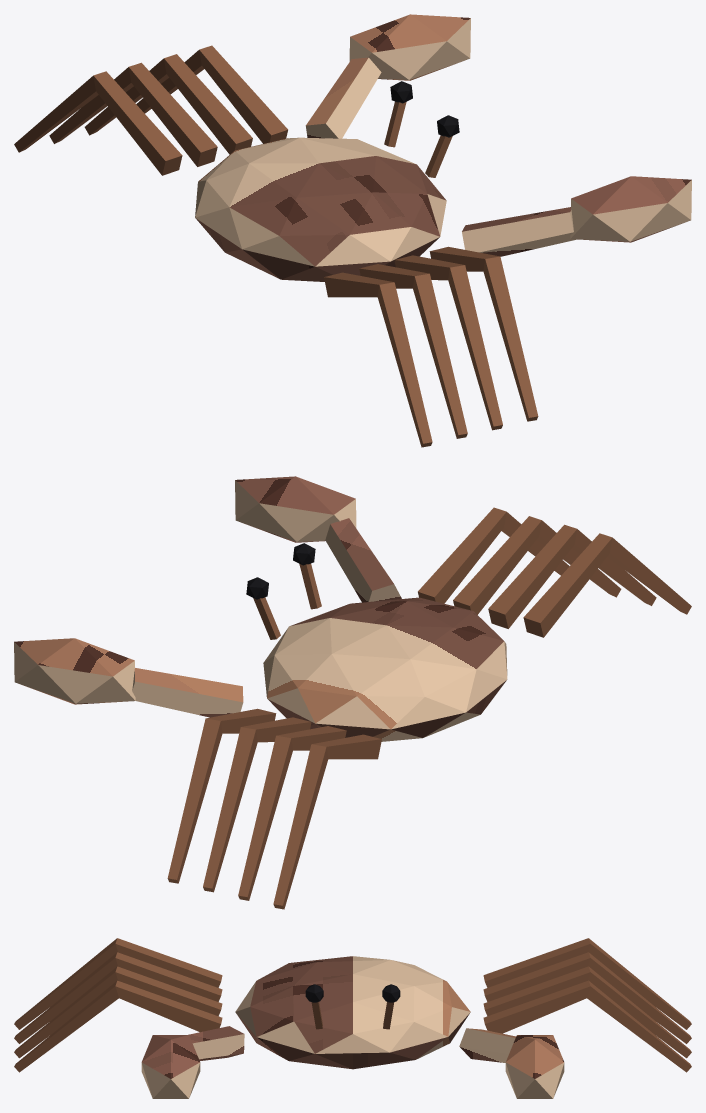
Rendered from harbour_spider_crab.glb.
The picture shows the model from 3 angles, top to bottom: view 1: azimuth 30°, elevation 25°; view 2: azimuth 150°, elevation 25°; view 3: azimuth 270°, elevation 25°; orthographic projection. The views are drawn at different scales.
Parts seen in each view (by area): view 1: fish_harbour_spider_crab; view 2: fish_harbour_spider_crab; view 3: fish_harbour_spider_crab.
Boxes of the visible parts, <box> form: fish_harbour_spider_crab: <box>14,14,691,447</box>; fish_harbour_spider_crab: <box>14,476,691,909</box>; fish_harbour_spider_crab: <box>14,938,691,1098</box>.
Size of the model in its own units: 0.7228 by 0.2886 by 1.42.
3 materials, 1 textured.
